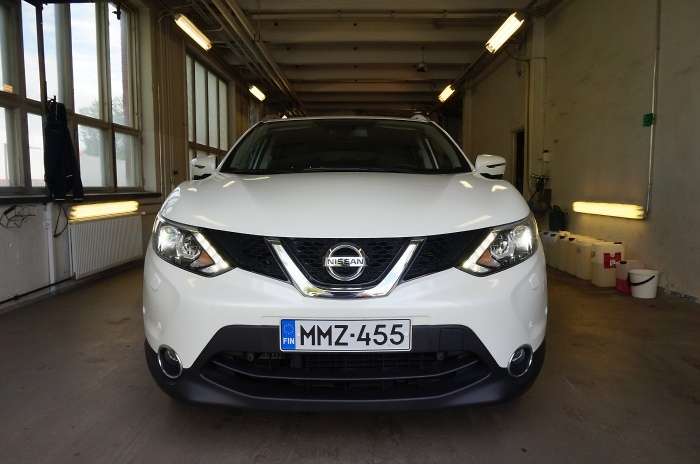license: (279, 320, 411, 352)
